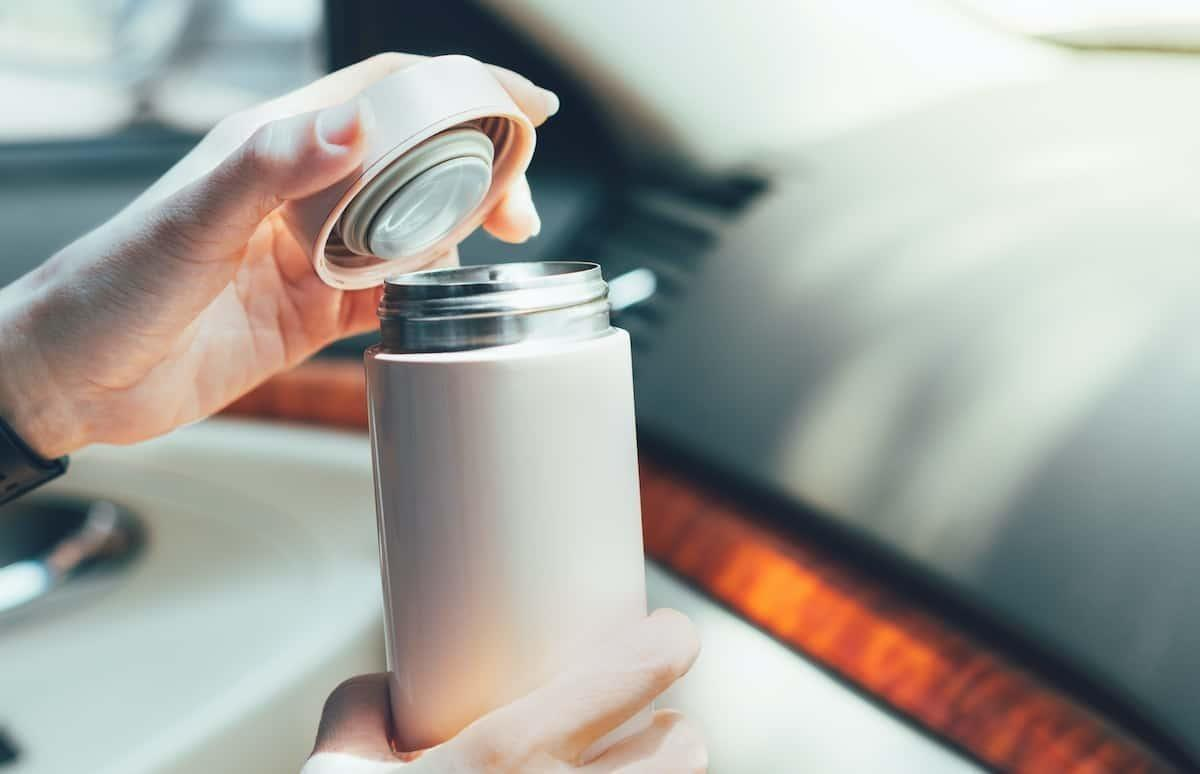gym bottle: (360, 254, 652, 756)
